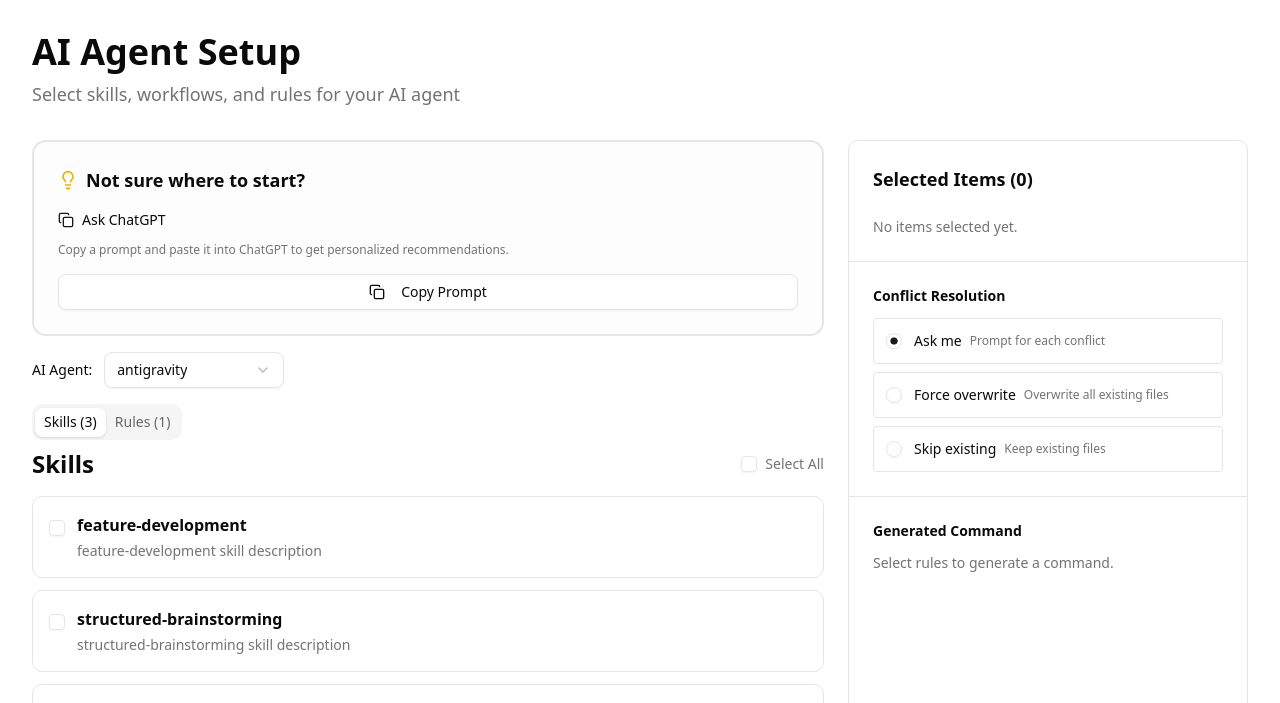
Test: Skills Display › should select and deselect all skills via master checkbox
The width and height of the screenshot is (1280, 703).
Expected: the checkbox named "feature-development" is not checked, [49, 520, 65, 536]
Expected: the checkbox named "structured-brainstorming" is not checked, [49, 614, 65, 630]
Click master checkbox to Select All
Click the checkbox named "Select all skills" at (749, 464), box [741, 456, 757, 472]
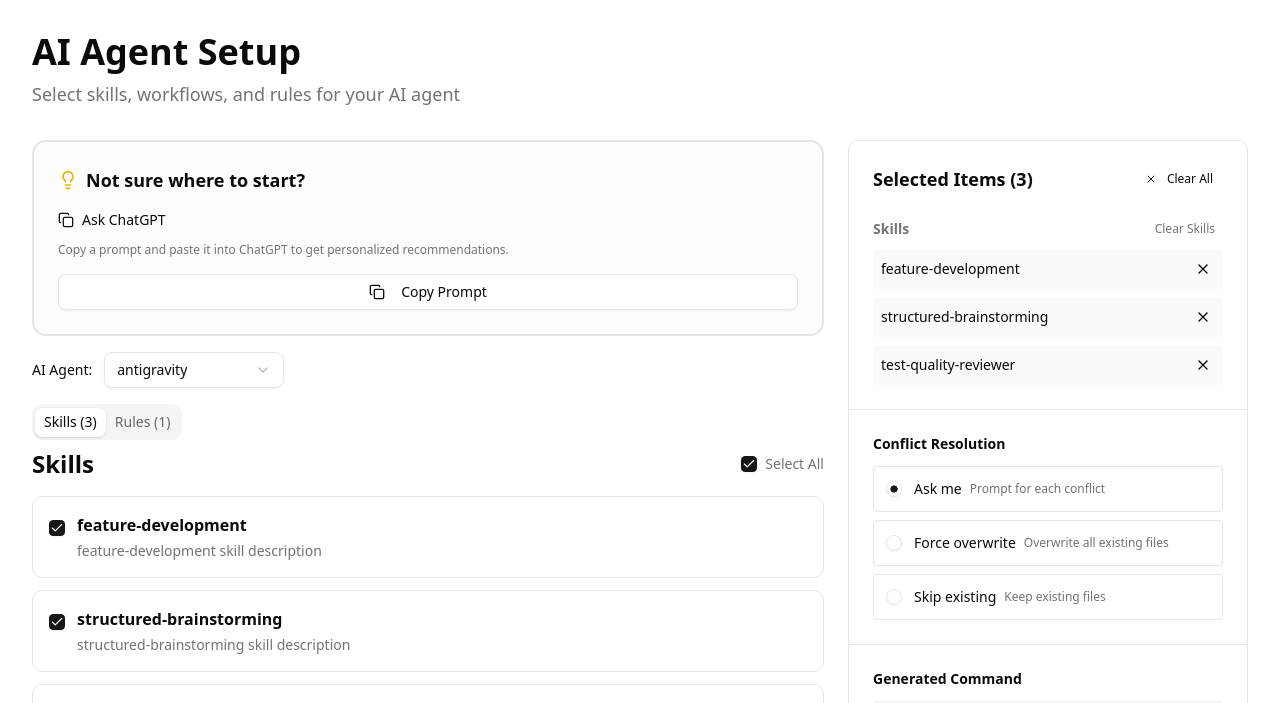
Expected: the checkbox named "Select all skills" is checked
Expected: the checkbox named "feature-development" is checked, [49, 520, 65, 536]
Expected: the checkbox named "structured-brainstorming" is checked, [49, 614, 65, 630]
Click master checkbox again to Deselect All
Click the checkbox named "Select all skills" at (749, 464), box [741, 456, 757, 472]
(page scrolled)
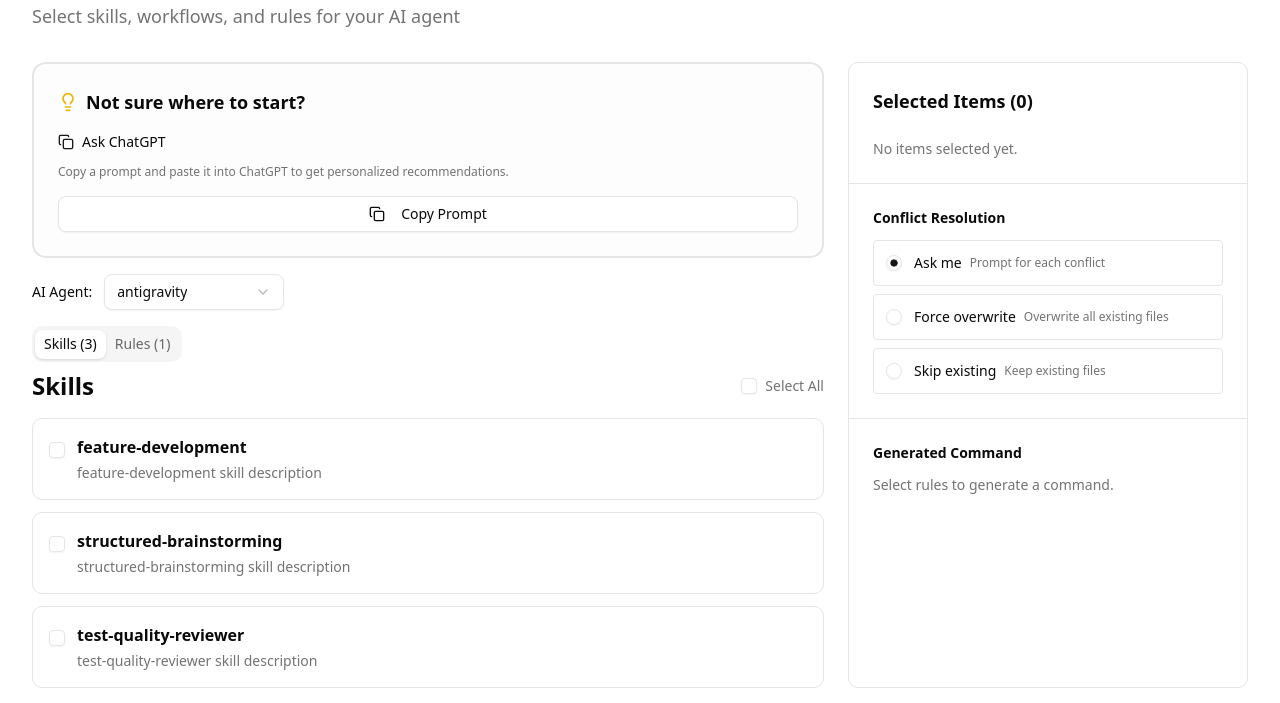
Expected: the checkbox named "Select all skills" is not checked, [741, 378, 757, 394]
Expected: the checkbox named "feature-development" is not checked, [49, 442, 65, 458]
Expected: the checkbox named "structured-brainstorming" is not checked, [49, 536, 65, 552]
